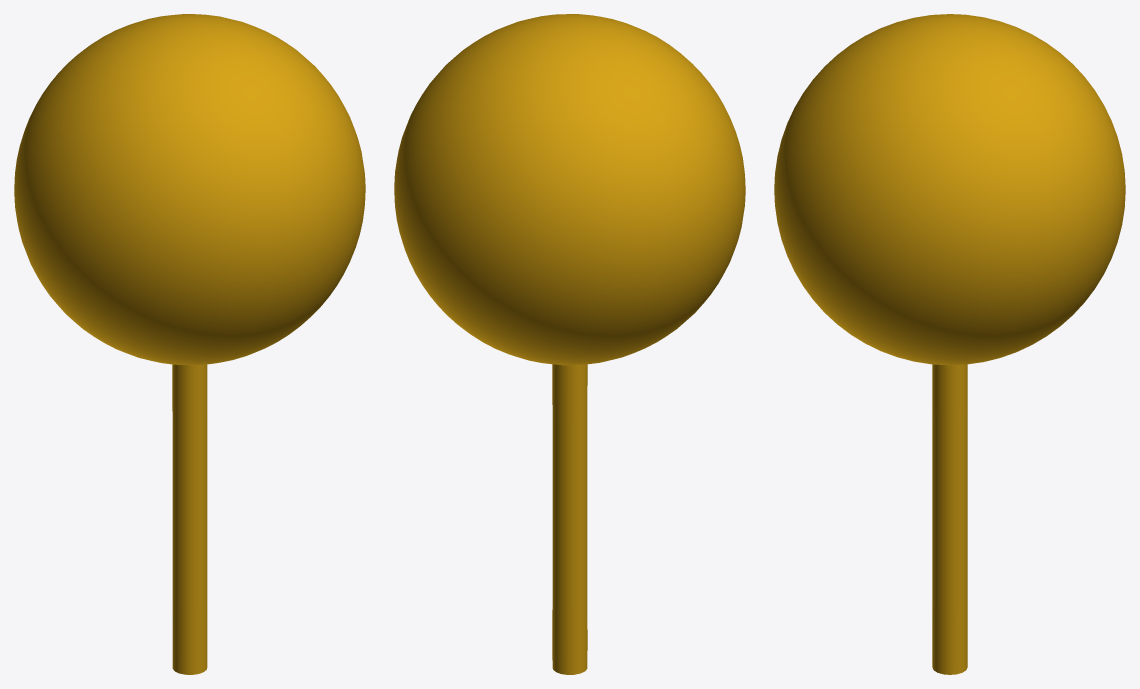
Rendered from pins.fbx.
3 renders of one model, left to right at view 1: azimuth 30°, elevation 25°; view 2: azimuth 150°, elevation 25°; view 3: azimuth 270°, elevation 25°, orthographic.
Parts seen in each view (by area): view 1: 物件_1; view 2: 物件_1; view 3: 物件_1.
Part boxes in pixels (x1,y1,x2,y2): 物件_1: (14, 14, 365, 674); 物件_1: (394, 14, 745, 674); 物件_1: (774, 14, 1125, 674).
Size of the model in its own units: 12.56 by 12.56 by 25.12.
